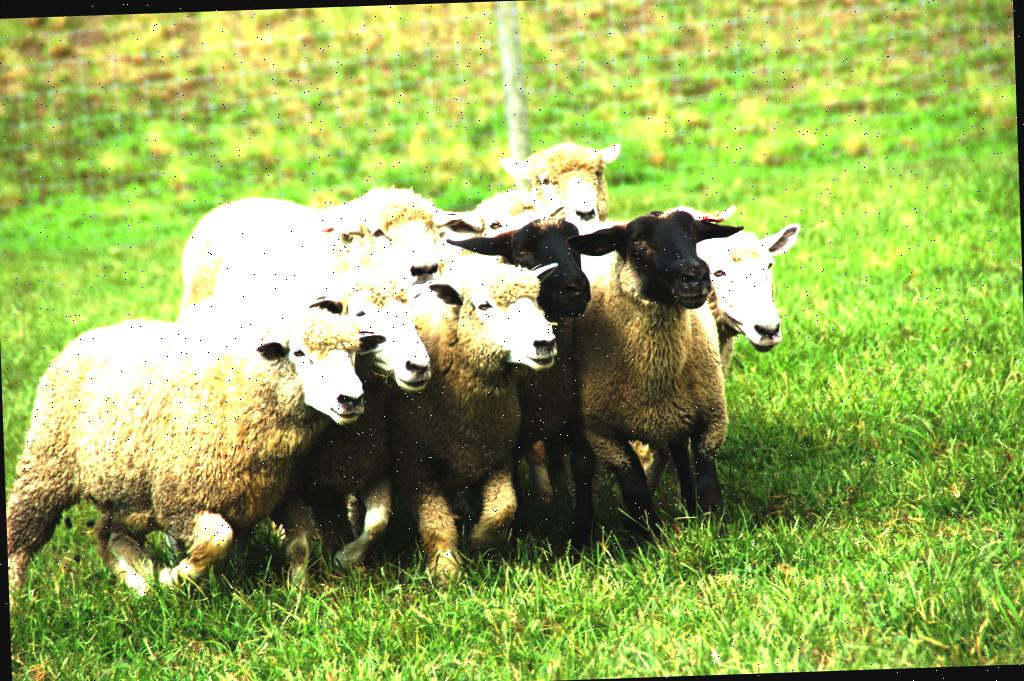Sheep: (28, 288, 396, 610), (167, 280, 436, 586), (390, 249, 582, 603), (568, 205, 744, 550), (452, 207, 608, 561), (694, 217, 818, 504), (168, 176, 462, 293), (498, 131, 638, 246), (440, 186, 572, 252), (646, 199, 740, 256)
